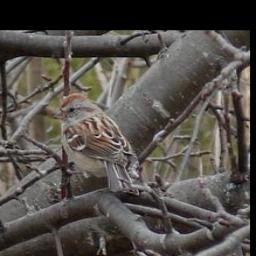Sparrow: (51, 92, 139, 196)
